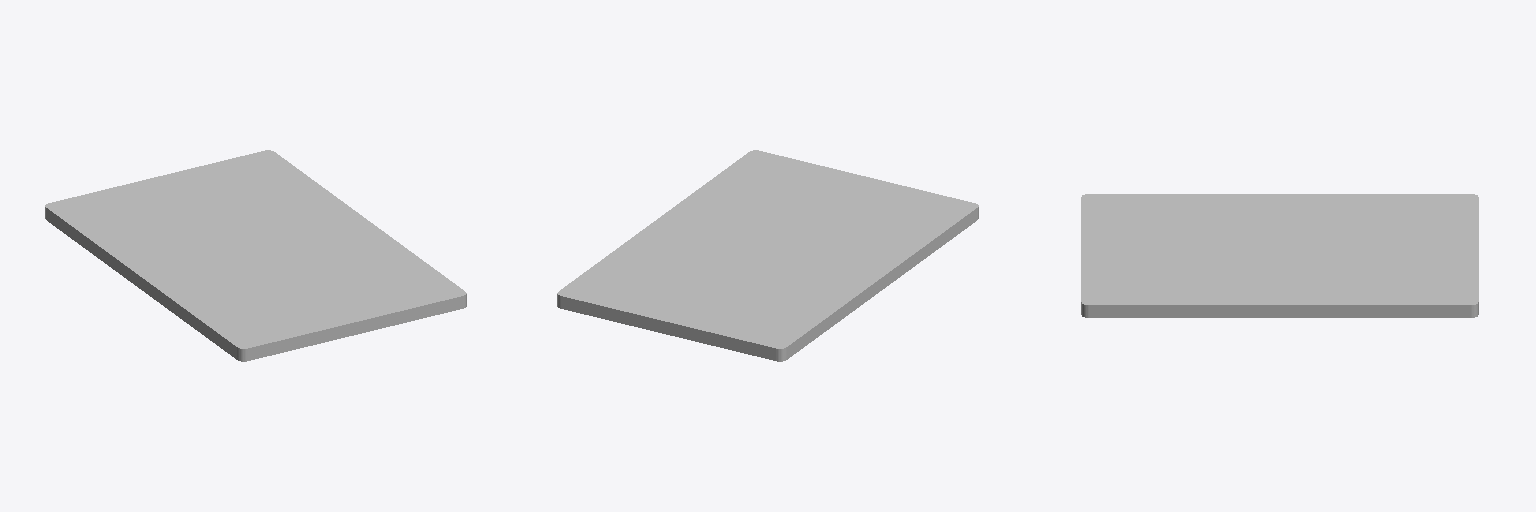
The model's file is bedMatress.obj.
The picture shows the model from 3 angles: view 1: azimuth 30°, elevation 25°; view 2: azimuth 150°, elevation 25°; view 3: azimuth 270°, elevation 25°; orthographic projection.
Visible parts, largest first — view 1: BedMain.002_Plane.001; view 2: BedMain.002_Plane.001; view 3: BedMain.002_Plane.001.
Boxes of the visible parts, x1,y1,x2,y2 form: BedMain.002_Plane.001: [45, 150, 466, 361]; BedMain.002_Plane.001: [557, 150, 978, 361]; BedMain.002_Plane.001: [1081, 194, 1478, 317].
Size of the model in its own units: 14.96 by 0.8 by 22.53.